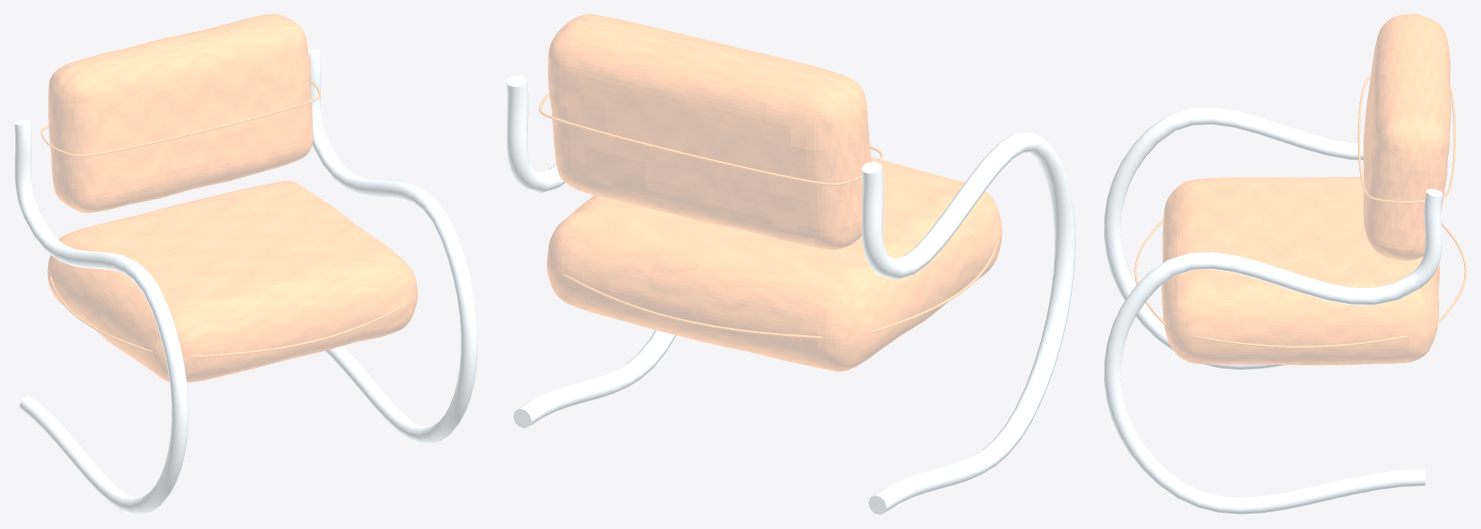
File: ref01_07.glb
3 renders of one model, left to right at view 1: azimuth 30°, elevation 25°; view 2: azimuth 150°, elevation 25°; view 3: azimuth 270°, elevation 25°, orthographic. The views are drawn at different scales.
Parts seen in each view (by area): view 1: ref01_07; view 2: ref01_07; view 3: ref01_07.
Boxes of the visible parts, box(x1,y1,x2,y2) form: ref01_07: box(14, 14, 477, 514); ref01_07: box(506, 14, 1075, 514); ref01_07: box(1104, 14, 1466, 514).
Bounding box in the file's own units: 0.7818 × 0.902 × 0.7853.
Materials: 2 (1 with a texture image).
